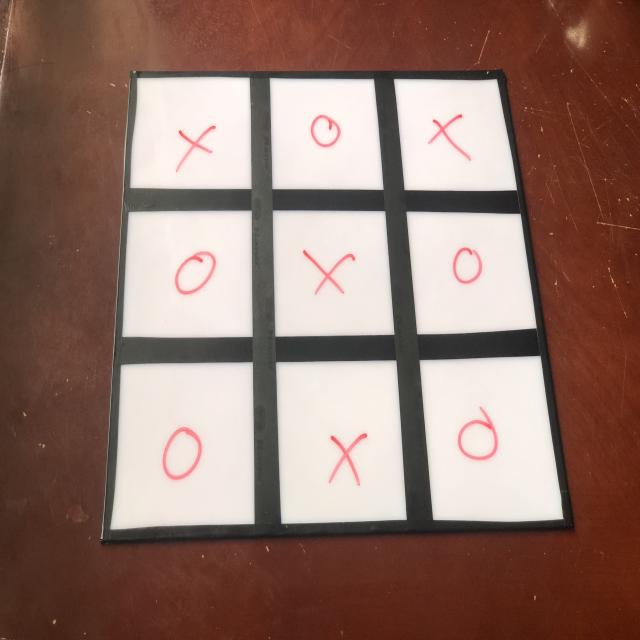o: (456, 401, 501, 470), (159, 421, 204, 488), (171, 243, 219, 304), (307, 109, 344, 151), (451, 242, 482, 290)
table: (89, 61, 575, 540)
x: (304, 243, 355, 300), (325, 430, 369, 491), (171, 116, 218, 168), (427, 106, 470, 158)
